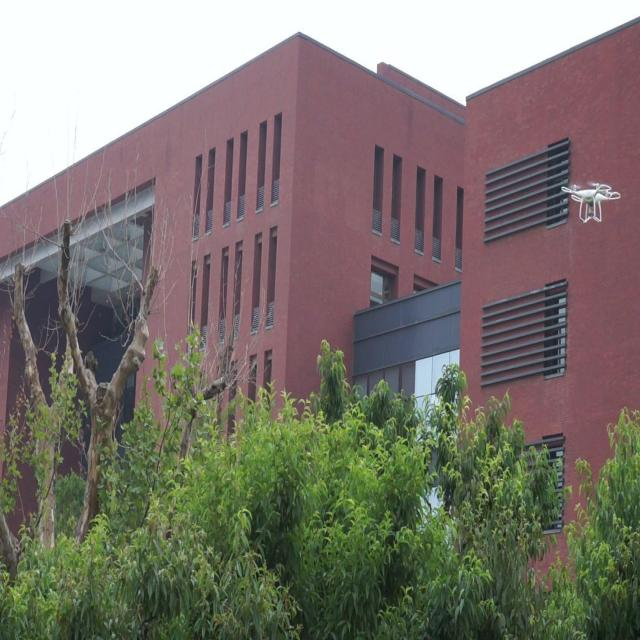UAV: (561, 182, 621, 223)
